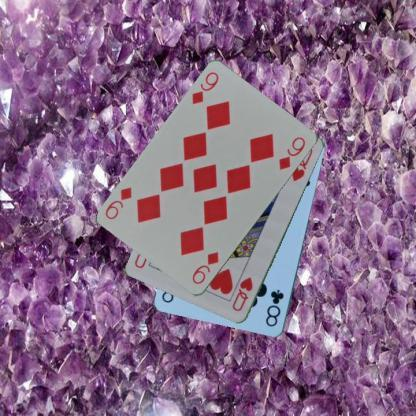8c: (262, 287, 286, 328)
9d: (190, 250, 221, 286), (189, 70, 220, 106)
Qh: (230, 274, 254, 314)
